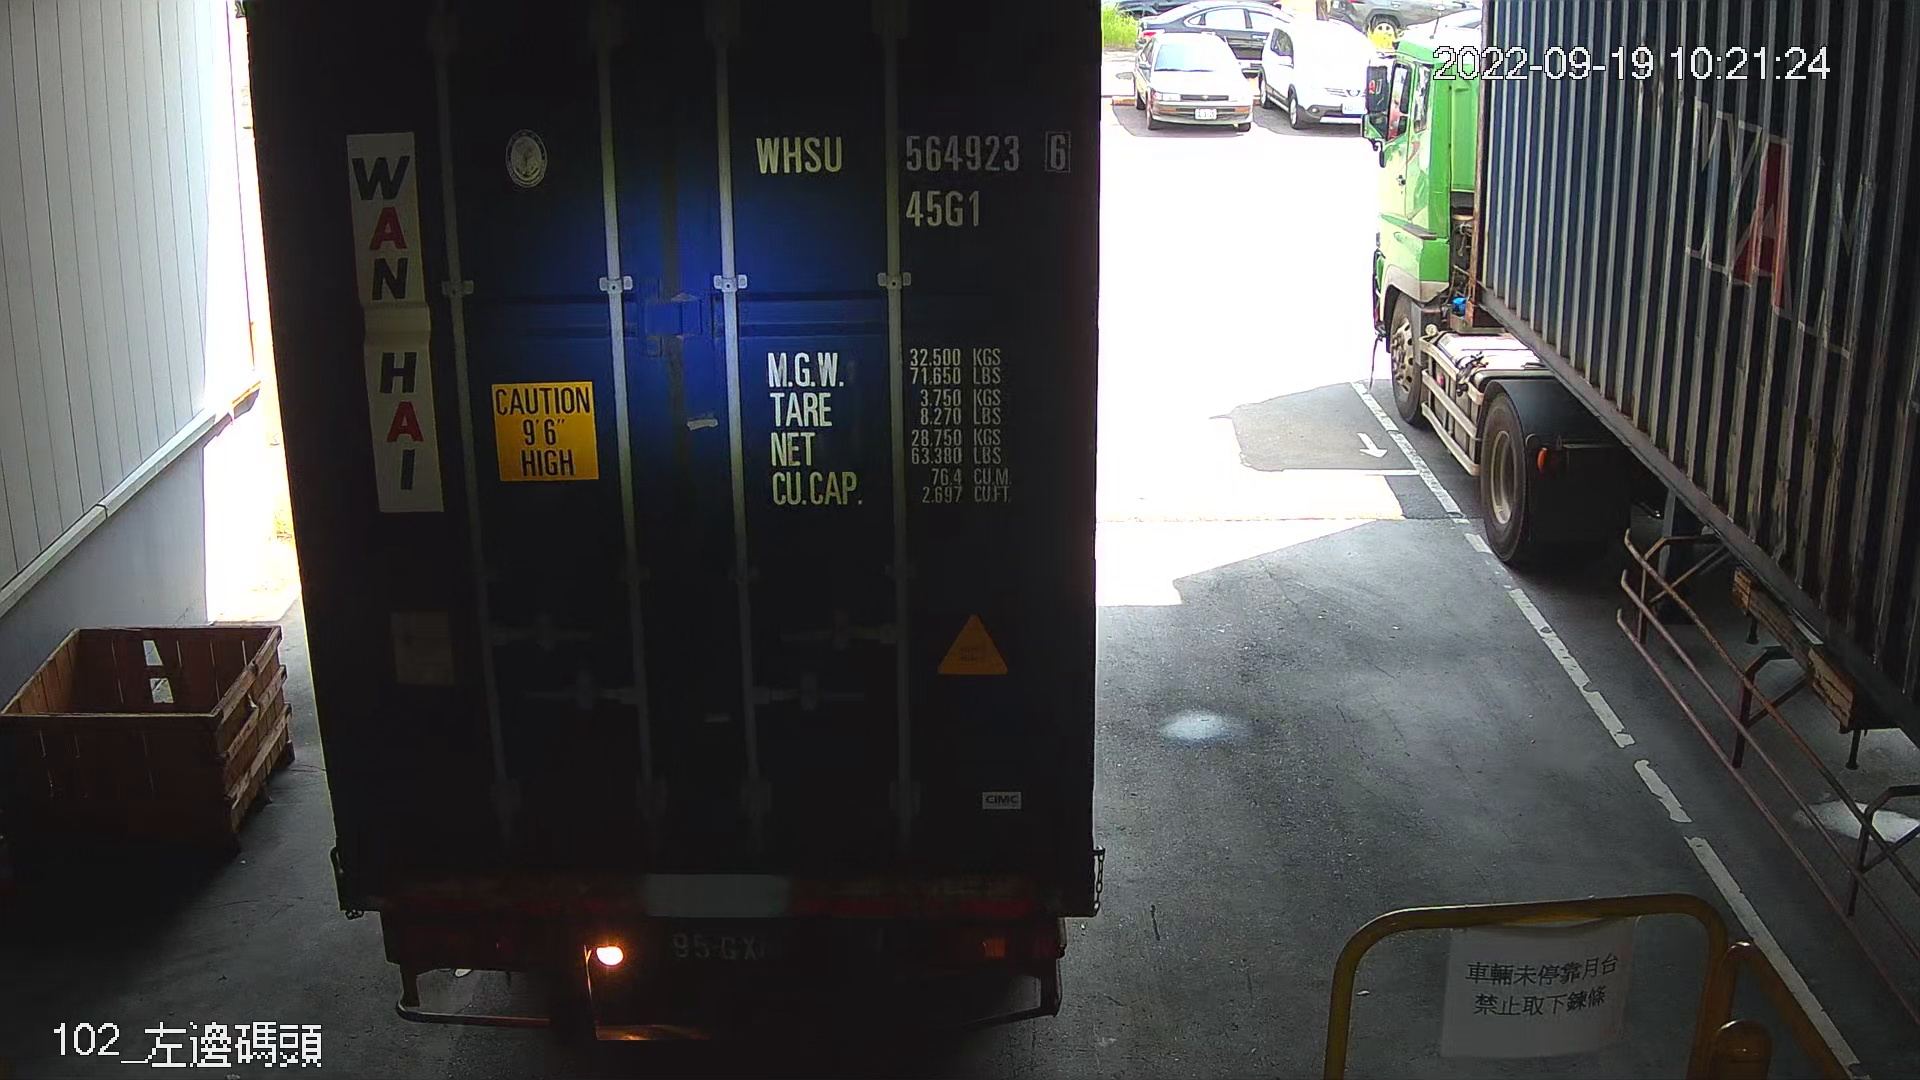container: (741, 117, 1083, 237)
